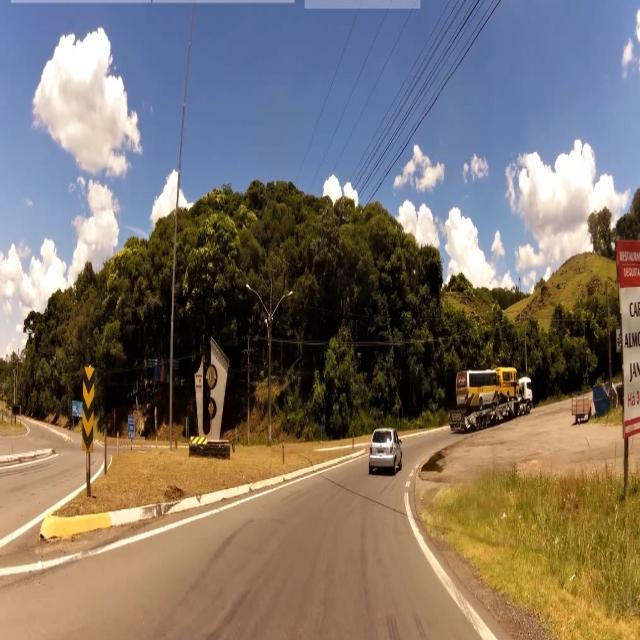MP: (84, 366, 93, 458)
